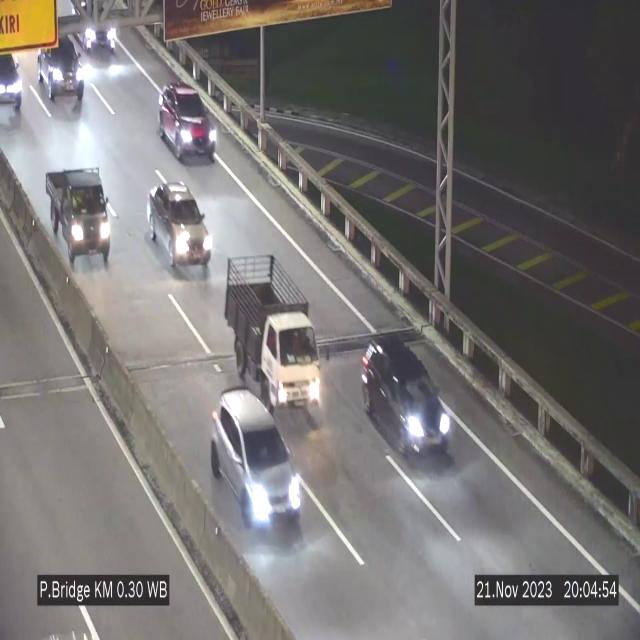Car: (211, 390, 303, 528), (359, 331, 455, 463), (147, 178, 214, 278), (159, 82, 215, 162), (36, 38, 84, 108), (68, 0, 118, 57), (0, 44, 34, 102)
Truck: (226, 257, 320, 415), (43, 162, 113, 266)
